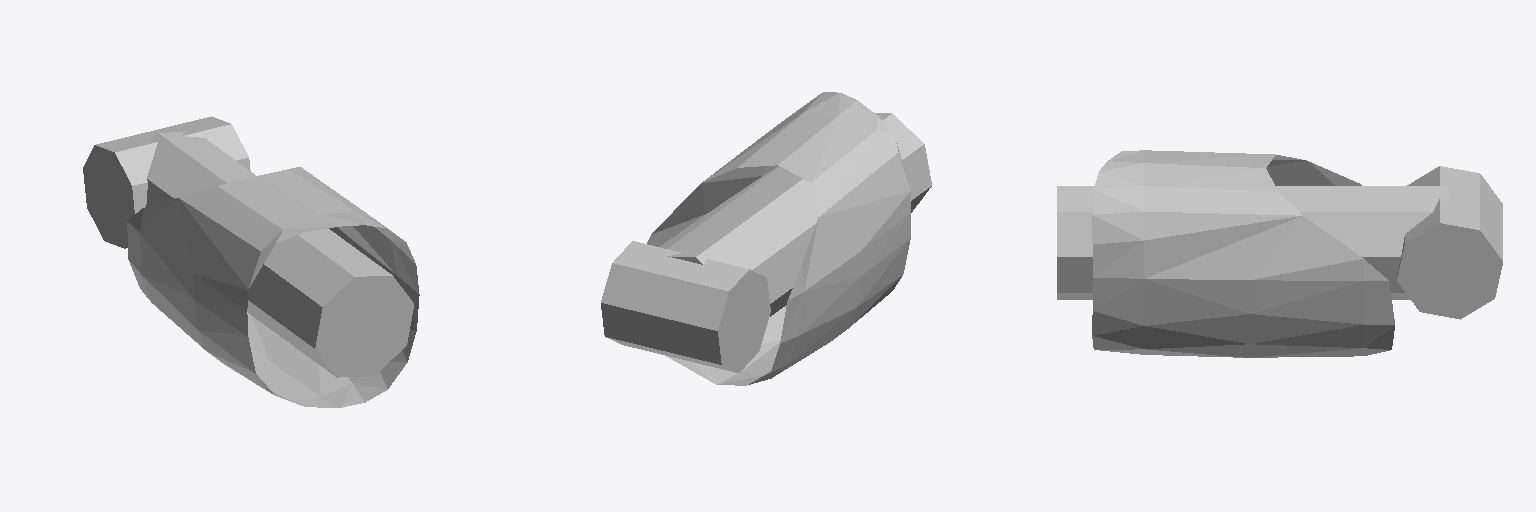
The model's file is icub_simple_collision_l_upper_leg.obj.
3 renders of one model, left to right at view 1: azimuth 30°, elevation 25°; view 2: azimuth 150°, elevation 25°; view 3: azimuth 270°, elevation 25°, orthographic.
Visible parts, largest first — view 1: l_thigh_mesh_l_upperleg; view 2: l_thigh_mesh_l_upperleg; view 3: l_thigh_mesh_l_upperleg.
Part boxes in pixels (left/top/right/bottom): l_thigh_mesh_l_upperleg: left=83, top=116, right=419, bottom=407; l_thigh_mesh_l_upperleg: left=601, top=92, right=931, bottom=385; l_thigh_mesh_l_upperleg: left=1057, top=150, right=1502, bottom=357.
Size of the model in its own units: 0.1024 by 0.1173 by 0.2543.